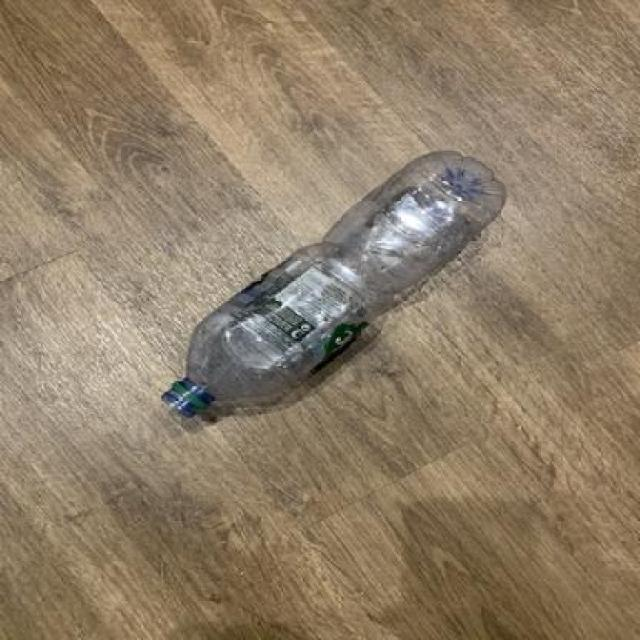trash: (154, 148, 506, 426)
